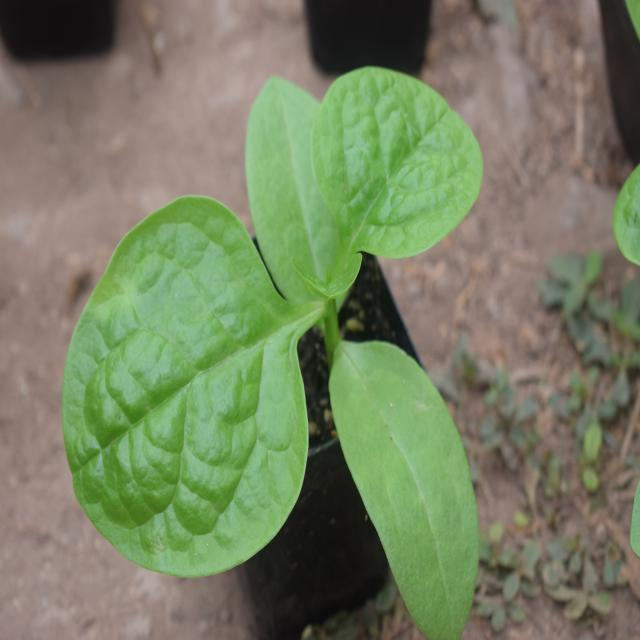Ceylon spinach: (78, 52, 487, 626)
